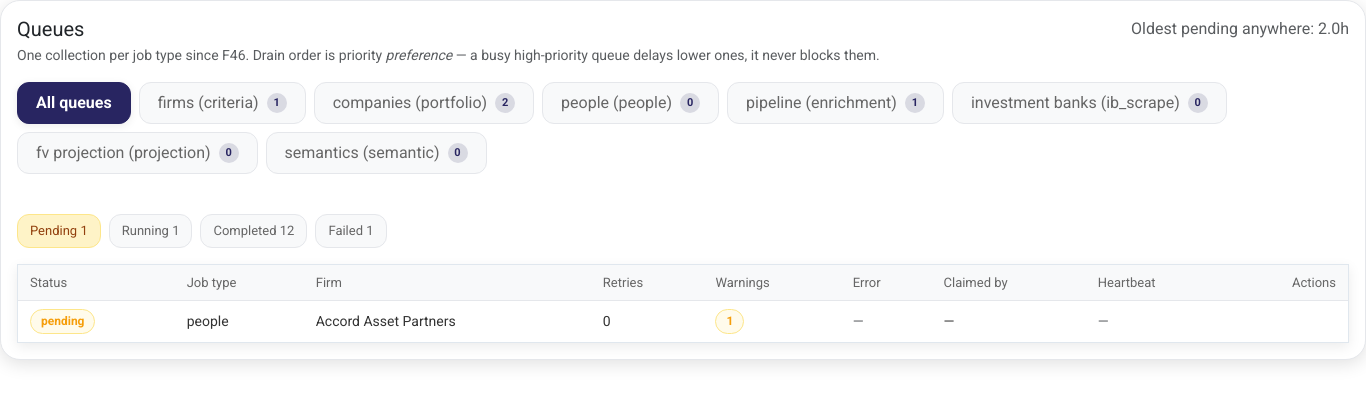
Test: QueuesPanel status filter › folds the subset diagnostics into the status they belong to
The width and height of the screenshot is (1366, 414).
Click the tab "companies (portfolio) 2". click: (424, 103)
box: [314,82,534,124]
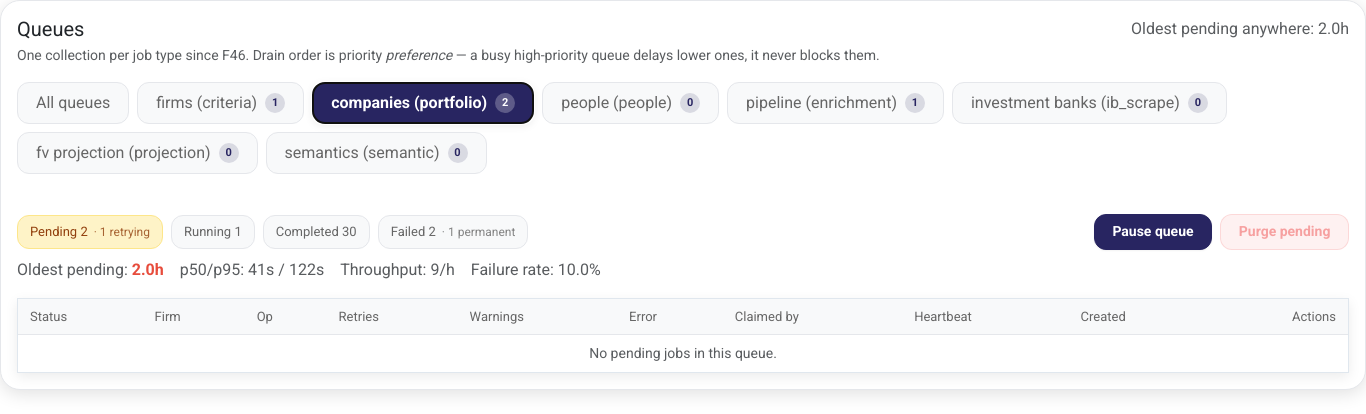
Expected: the button "Failed 2 · 1 permanent" is shown, [378,215,528,249]
